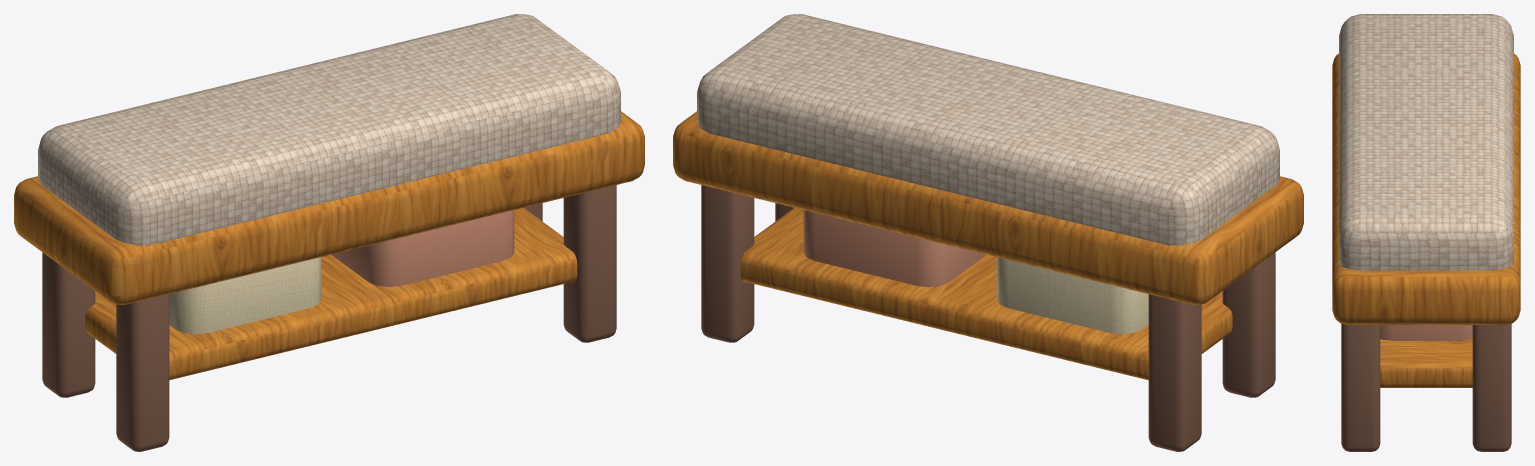
The model's file is bench.glb.
The picture shows the model from 3 angles, left to right: view 1: azimuth 30°, elevation 25°; view 2: azimuth 150°, elevation 25°; view 3: azimuth 270°, elevation 25°; orthographic projection. The views are drawn at different scales.
Parts seen in each view (by area): view 1: bench; view 2: bench; view 3: bench.
Part boxes in pixels (x1=…): bench: x1=14, y1=14, x2=644, y2=451; bench: x1=673, y1=14, x2=1303, y2=451; bench: x1=1332, y1=14, x2=1520, y2=451.
Bounding box in the file's own units: 1.06 × 0.4962 × 0.3612.
Materials: 5 (3 with a texture image).
